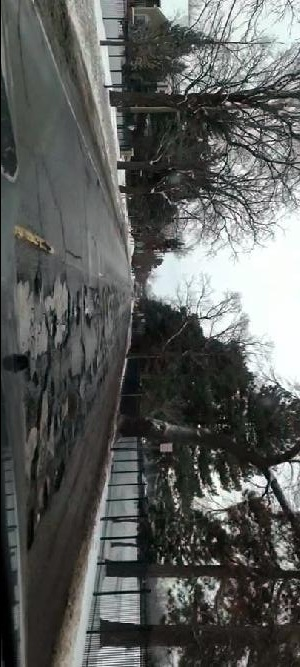pothole: (23, 508, 39, 550), (50, 459, 67, 492), (47, 378, 56, 430), (14, 350, 29, 373), (73, 290, 83, 324), (47, 312, 58, 338)
